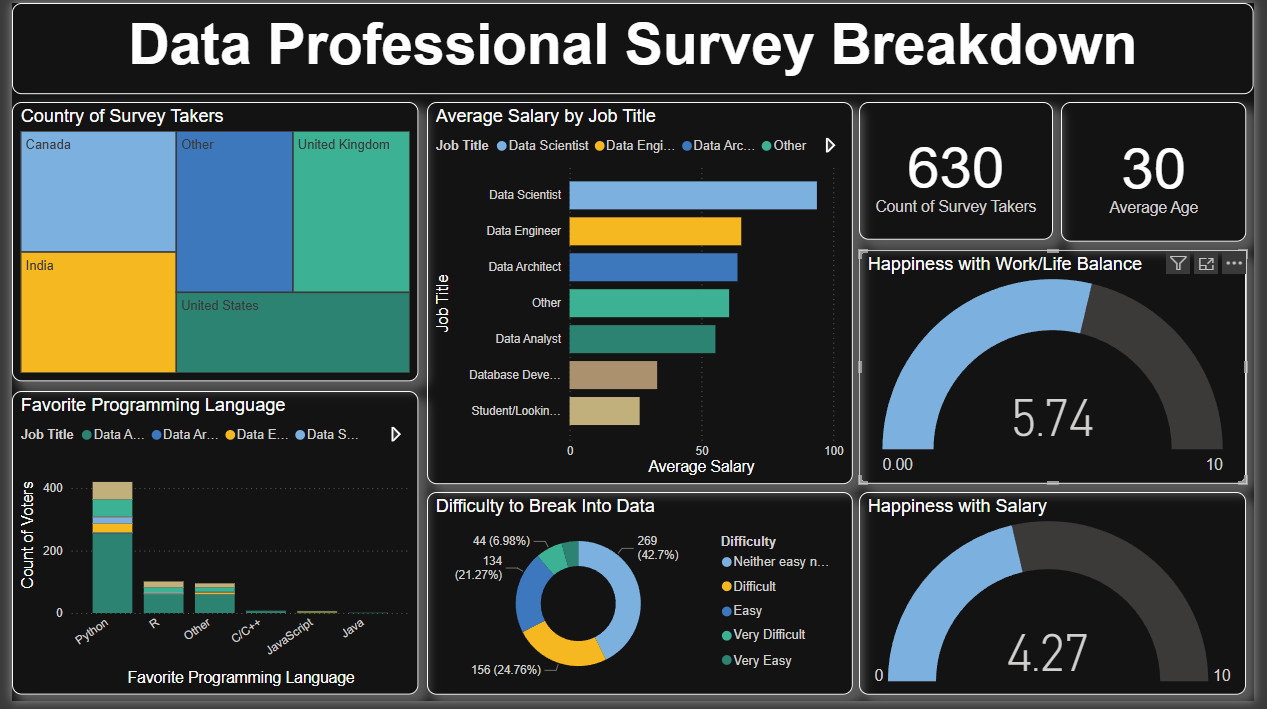

The dashboard page shown, as its layout file describes it:
{"tool":"powerbi","page":{"name":"Page 1","canvas":[1280,720],"ordinal":0},"visuals":[{"type":"textbox","box":[0,0,1280,94.3],"z":0},{"type":"card","fields":{"Values":["CountNonNull(Data Professional Survey.Unique ID)"]},"box":[873.5,102.4,199.6,142.1],"z":1000},{"type":"card","fields":{"Values":["Avg(Data Professional Survey.Q10 - Current Age)"]},"box":[1081.5,102.4,191.2,144.2],"z":2000},{"type":"barChart","title":"Average Salary by Job Title","fields":{"Category":["Data Professional Survey.Q1 - Which Title Best Fits your Current Role?.1"],"Y":["Avg(Data Professional Survey.Average Salary )"],"Series":["Data Professional Survey.Q1 - Which Title Best Fits your Current Role?.1"]},"box":[427.4,102.4,438.9,393.9],"z":3000},{"type":"columnChart","title":"Favorite Programming Language","fields":{"Category":["Data Professional Survey.Q5 - Favorite Programming Language.1.1"],"Y":["CountNonNull(Data Professional Survey.Unique ID)"],"Series":["Data Professional Survey.Q1 - Which Title Best Fits your Current Role?.1"]},"box":[0,399.8,419.2,313.2],"z":4000},{"type":"treemap","title":"Country of Survey Takers","fields":{"Group":["Data Professional Survey.Q11 - Which Country do you live in?.1"],"Values":["Count(Data Professional Survey.Q11 - Which Country do you live in?.1)"]},"box":[0,102.4,419,288.4],"z":5000},{"type":"gauge","title":"Happiness with Work/Life Balance","fields":{"Y":["Avg(Data Professional Survey.Q6 - How Happy are you in your Current Position with the following? (Work/Life Balance))"],"MaxValue":["Max(Data Professional Survey.Q6 - How Happy are you in your Current Position with the following? (Work/Life Balance))"]},"box":[873.5,255,399.2,241.4],"z":6000},{"type":"gauge","title":"Happiness with Salary","fields":{"Y":["Avg(Data Professional Survey.Q6 - How Happy are you in your Current Position with the following? (Salary))"],"MinValue":["Min(Data Professional Survey.Q6 - How Happy are you in your Current Position with the following? (Salary))"],"MaxValue":["Max(Data Professional Survey.Q6 - How Happy are you in your Current Position with the following? (Salary))1"]},"box":[873.4,503.8,398.8,209.1],"z":7000},{"type":"donutChart","title":"Difficulty to Break Into Data","fields":{"Category":["Data Professional Survey.Q7 - How difficult was it for you to break into Data?"],"Y":["CountNonNull(Data Professional Survey.Q1 - Which Title Best Fits your Current Role?.1)"]},"box":[427.4,503.6,438.9,209],"z":8000}]}

Visuals, with their boxes in screenshot pixels (x1, y1, x2, y2), scaled from the page's 1280x720 canvas onto the 1267x709 screenshot:
textbox: BBox(0, 0, 1266, 93)
card - CountNonNull(Data Professional Survey.Unique ID): BBox(865, 101, 1062, 241)
card - Avg(Data Professional Survey.Q10 - Current Age): BBox(1071, 101, 1260, 243)
"Average Salary by Job Title" barChart: BBox(423, 101, 858, 489)
"Favorite Programming Language" columnChart: BBox(0, 394, 415, 702)
"Country of Survey Takers" treemap: BBox(0, 101, 415, 385)
"Happiness with Work/Life Balance" gauge: BBox(865, 251, 1260, 489)
"Happiness with Salary" gauge: BBox(865, 496, 1259, 702)
"Difficulty to Break Into Data" donutChart: BBox(423, 496, 858, 702)
